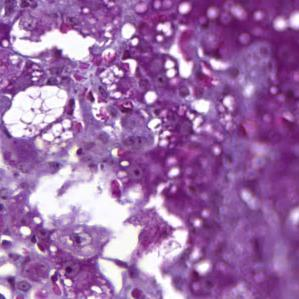ballooning: (0, 83, 72, 141)
